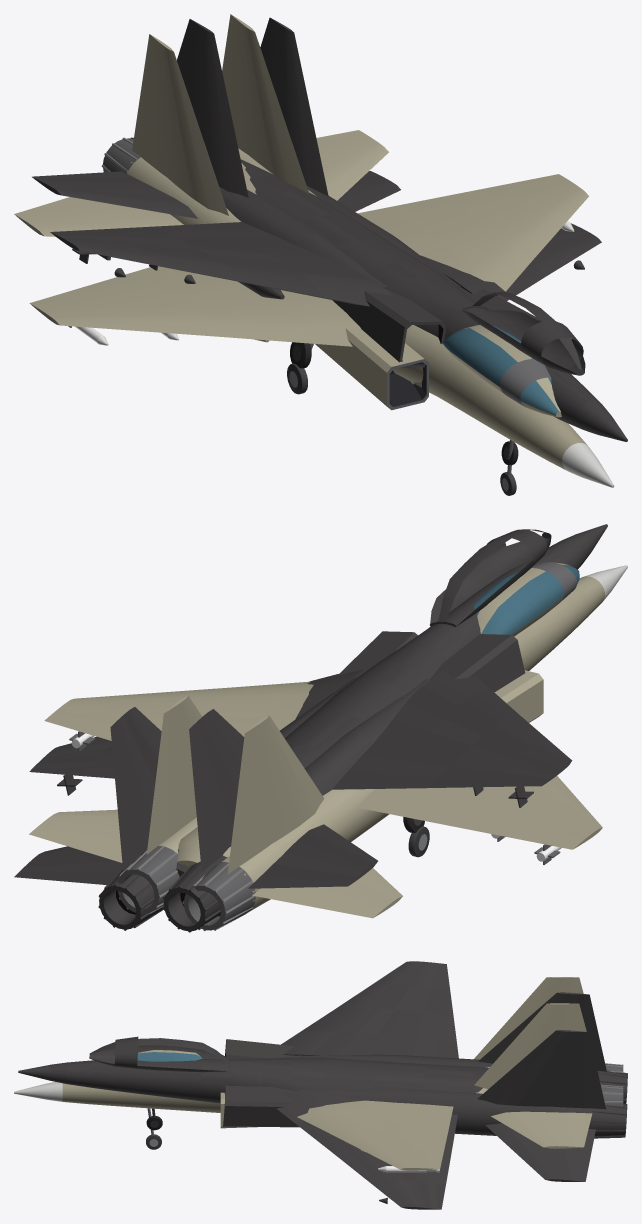
Rendered from jet__f_15j.glb.
3 views of the same model, one above another, from view 1: azimuth 30°, elevation 25°; view 2: azimuth 150°, elevation 25°; view 3: azimuth 270°, elevation 25° (orthographic). The views are drawn at different scales.
Parts seen in each view (by area): view 1: Fuselage_Mesh, Wreck; view 2: Wreck, Fuselage_Mesh; view 3: Wreck, Fuselage_Mesh.
Boxes of the visible parts, x1=… form: Fuselage_Mesh: x1=14, y1=14, x2=614, y2=495; Wreck: x1=32, y1=17, x2=627, y2=464; Wreck: x1=14, y1=524, x2=607, y2=932; Fuselage_Mesh: x1=29, y1=562, x2=627, y2=931; Wreck: x1=18, y1=961, x2=627, y2=1209; Fuselage_Mesh: x1=14, y1=977, x2=623, y2=1175.
Size of what is drawn, in the model's own units: 13.4 by 5.61 by 19.63.
